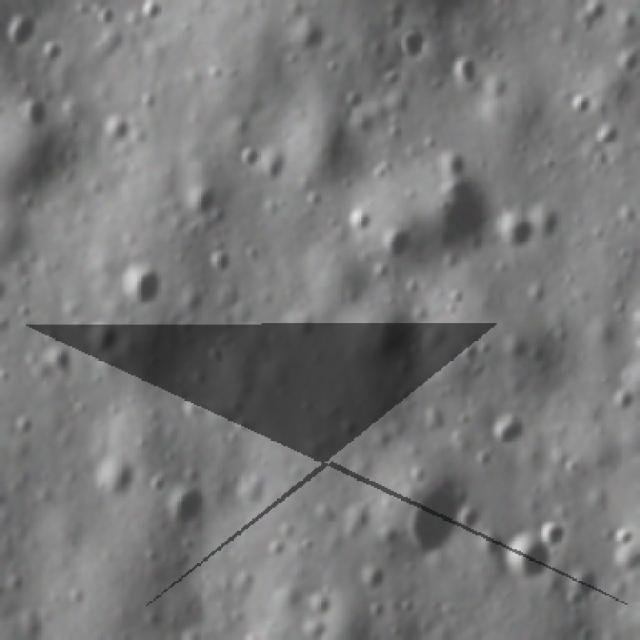crater: (395, 466, 468, 563), (420, 175, 500, 260), (498, 529, 552, 593), (92, 453, 138, 504), (560, 557, 603, 611), (121, 262, 162, 316), (495, 209, 540, 253), (161, 487, 207, 530), (490, 410, 532, 455), (180, 180, 218, 222), (84, 318, 122, 359), (587, 118, 624, 159), (379, 224, 413, 265), (397, 30, 434, 65), (44, 342, 76, 382), (6, 15, 45, 47), (453, 49, 484, 89), (357, 562, 389, 600), (21, 95, 53, 131), (453, 502, 484, 538), (606, 388, 639, 418), (43, 35, 69, 73), (307, 590, 338, 621), (612, 50, 640, 82), (236, 142, 262, 175), (92, 3, 119, 34), (348, 208, 374, 238), (540, 517, 565, 548), (138, 0, 164, 29), (207, 251, 233, 280), (298, 618, 332, 640), (569, 92, 594, 120)
